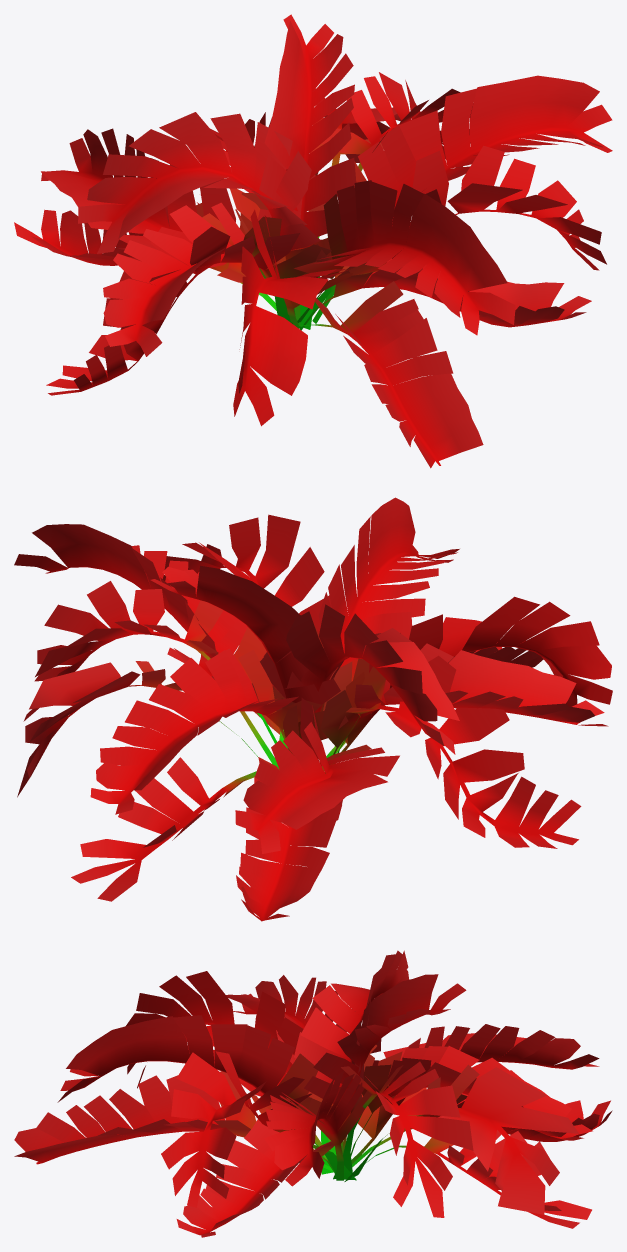
The model's file is Var5_LOD1.fbx.
The picture shows the model from 3 angles, top to bottom: view 1: azimuth 30°, elevation 25°; view 2: azimuth 150°, elevation 25°; view 3: azimuth 270°, elevation 25°; orthographic projection. The views are drawn at different scales.
Parts seen in each view (by area): view 1: _ed2d_Var5_LOD1; view 2: _ed2d_Var5_LOD1; view 3: _ed2d_Var5_LOD1.
Boxes of the visible parts, x1,y1,x2,y2 form: _ed2d_Var5_LOD1: (14, 14, 612, 468); _ed2d_Var5_LOD1: (14, 497, 612, 921); _ed2d_Var5_LOD1: (14, 950, 612, 1237).
Bounding box in the file's own units: 159 × 73.87 × 168.
